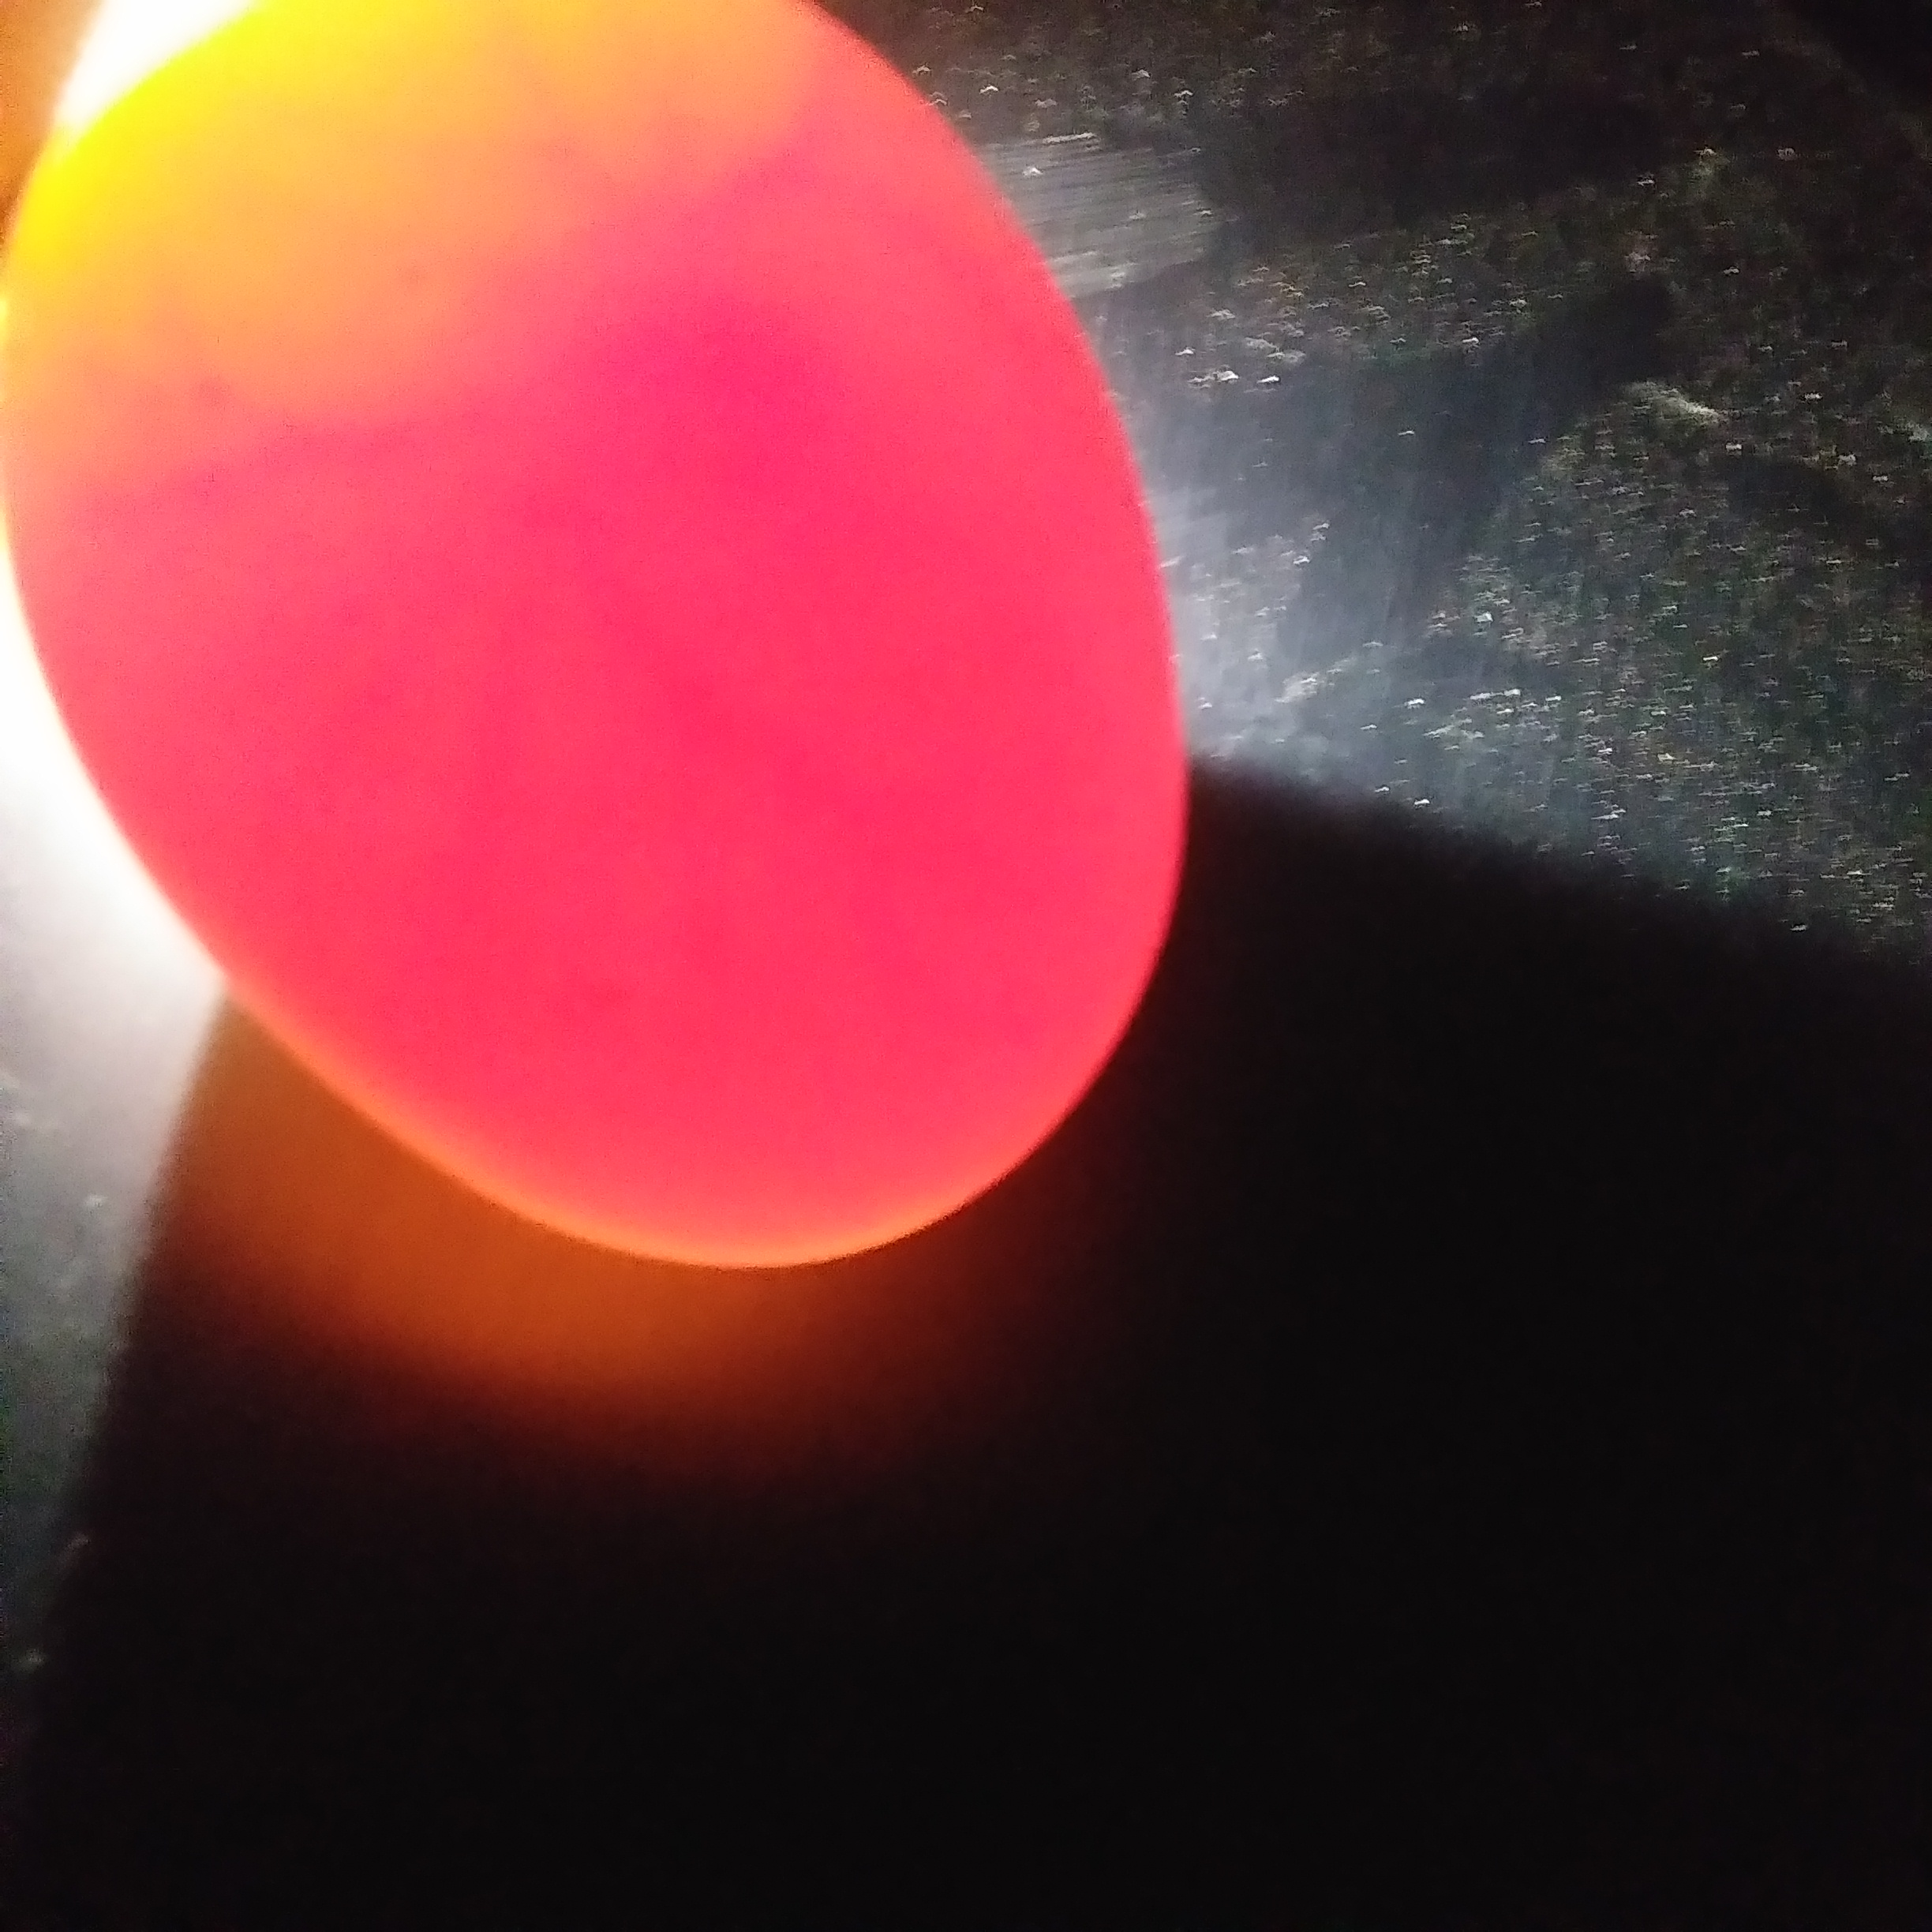bloodcell: (119, 257, 433, 708), (402, 74, 901, 193)
embryo: (522, 221, 740, 471)
